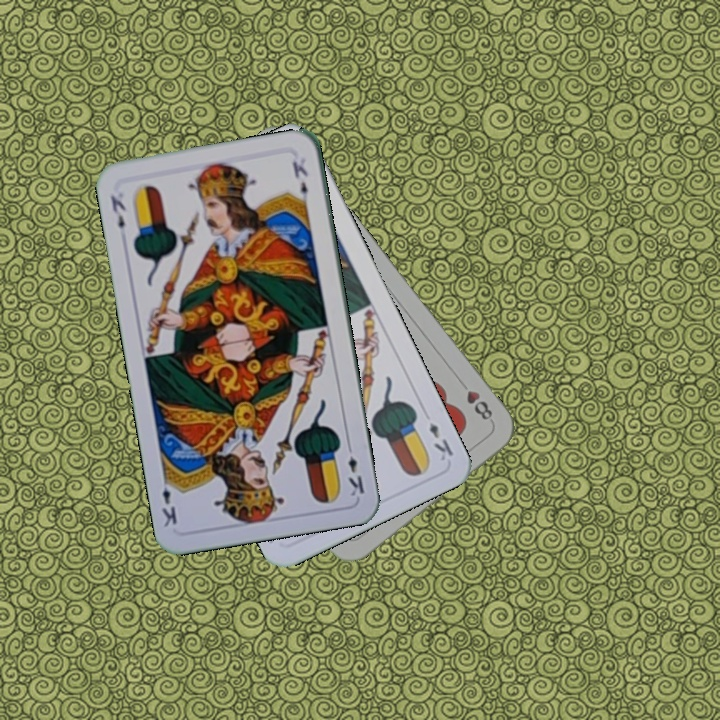EK: (424, 418, 456, 464), (343, 440, 367, 499), (106, 191, 129, 232)
H8: (462, 386, 495, 423)
